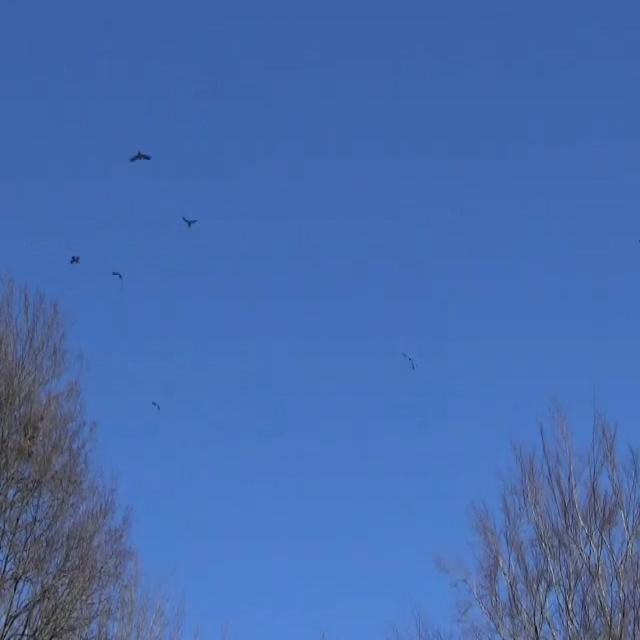bird: (125, 142, 154, 168), (62, 247, 88, 275), (170, 208, 199, 232), (400, 345, 420, 376), (108, 258, 130, 286)
